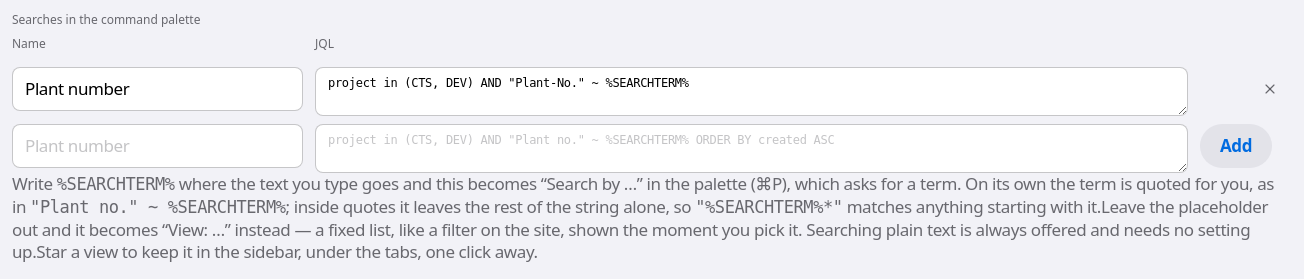
Test: one already written › survives its name being cleared to retype it
Clear the field named "Name of the Plant number search" at point(158, 89), box [12,67,303,111]
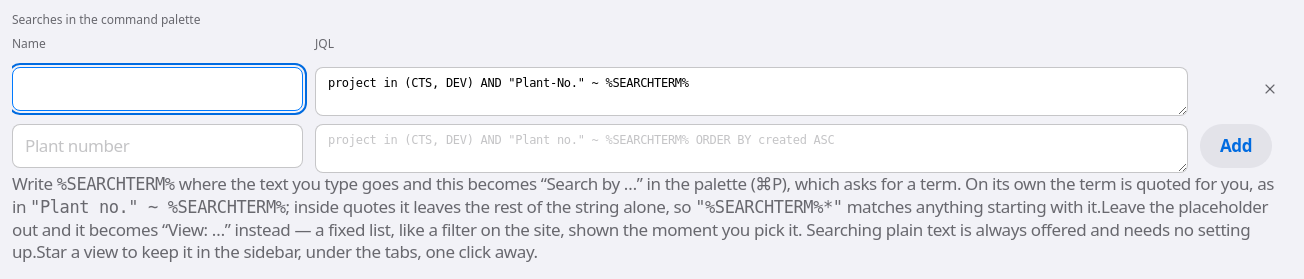
Press Tab
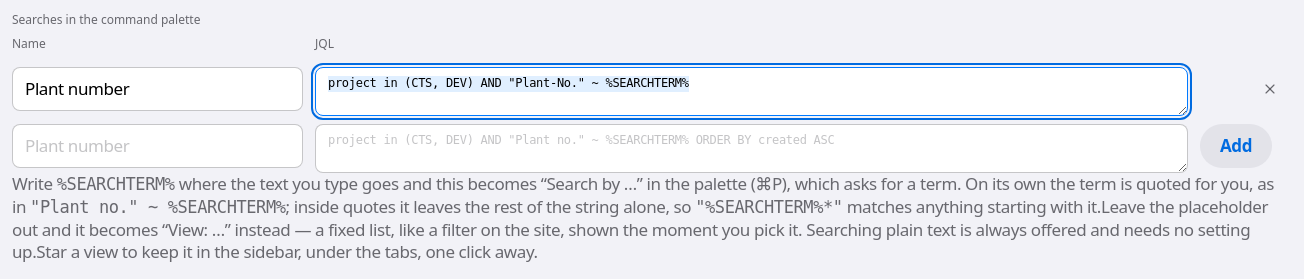
Now the field named "Name of the Plant number search" holds "Plant number", box [12,67,303,111]
